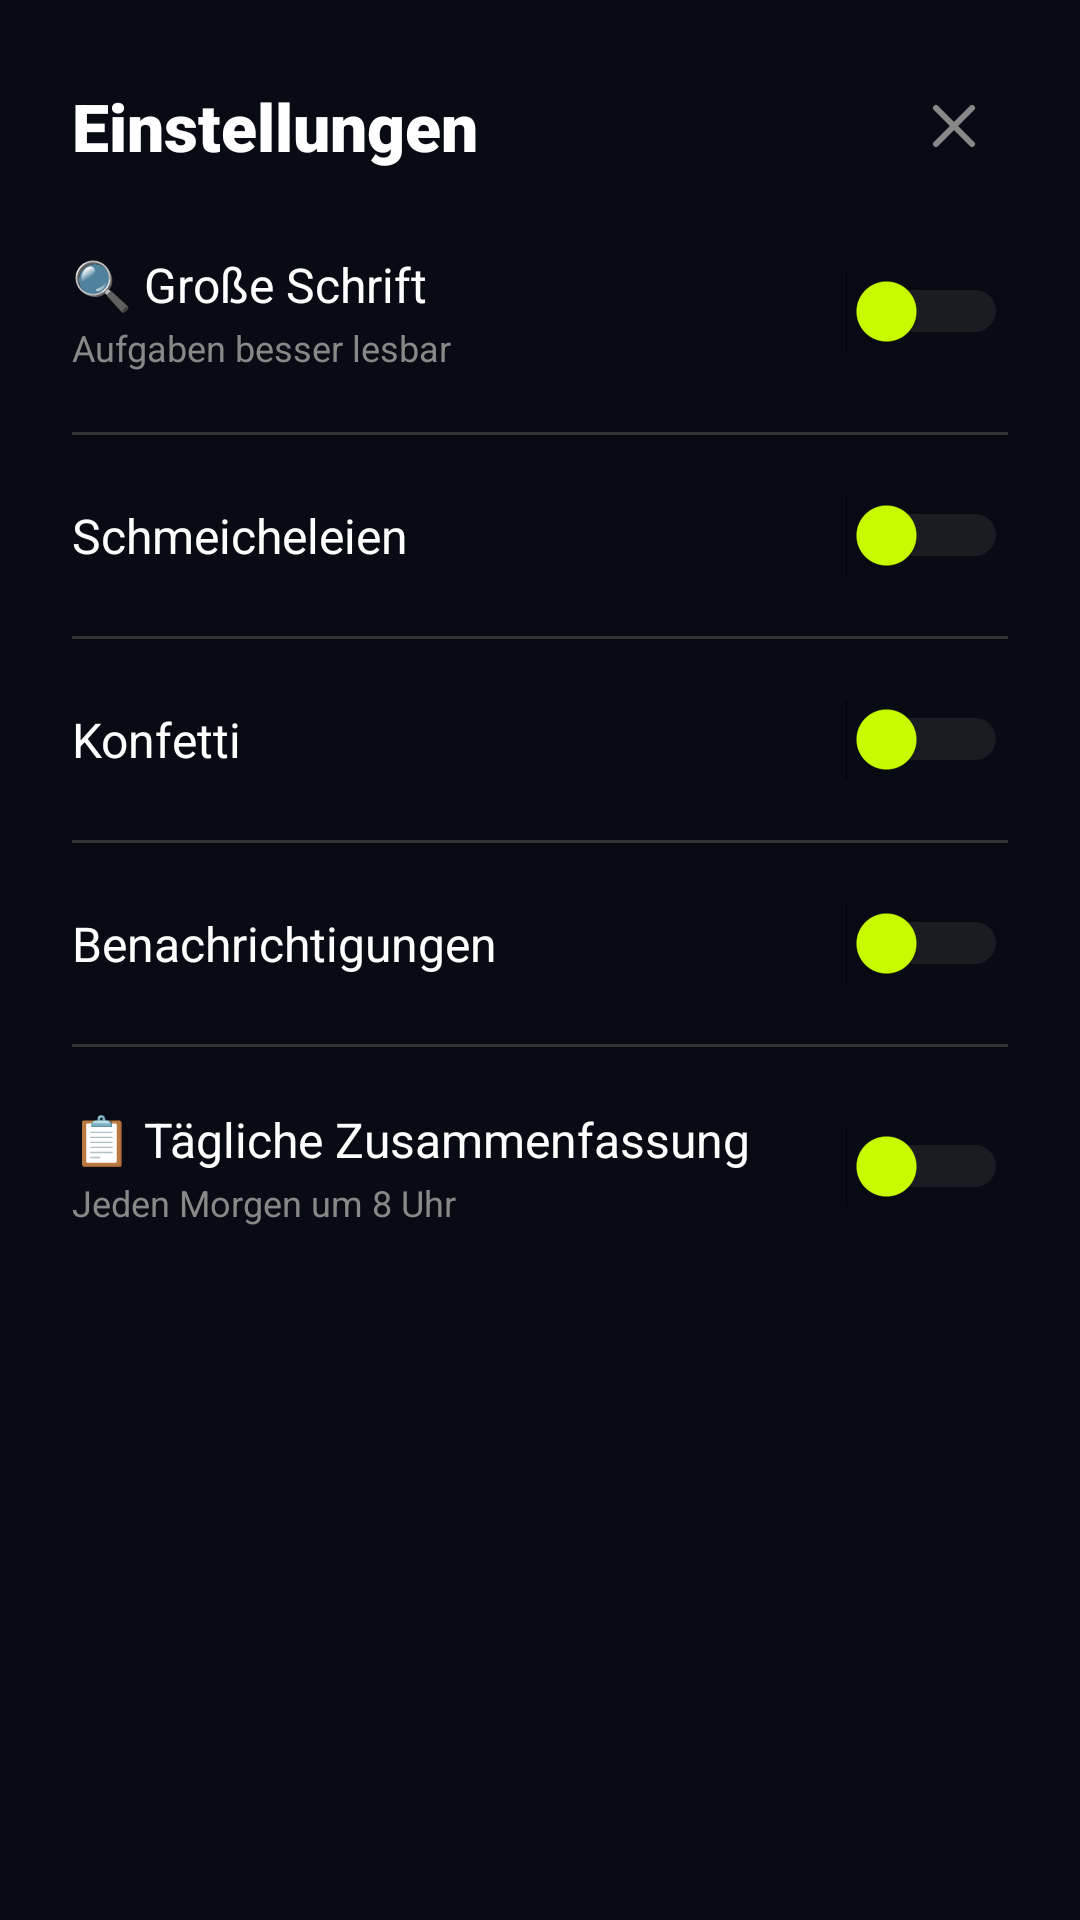

Point at icon controls on the screen. Image size 1080x1920, points as (x,y).
Schließen: (954,126)
